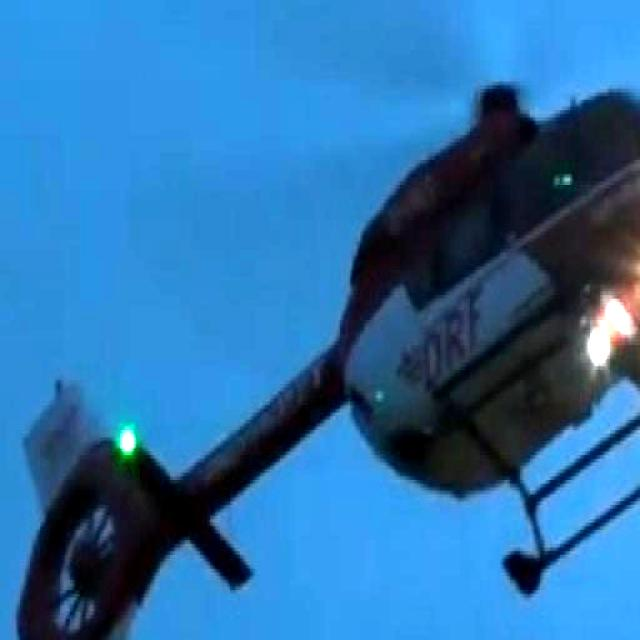drone: (11, 51, 640, 640)
